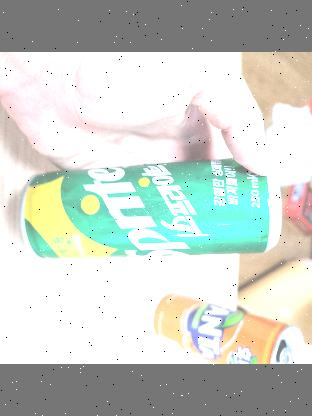Can: (11, 157, 290, 273)
